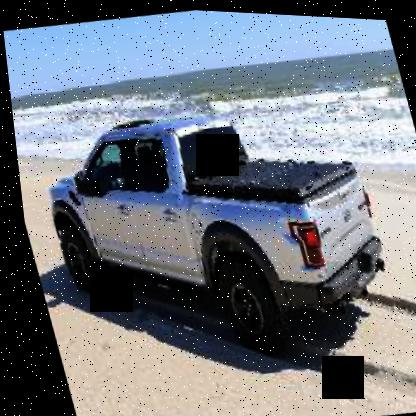not_emergency: (5, 62, 415, 399)
